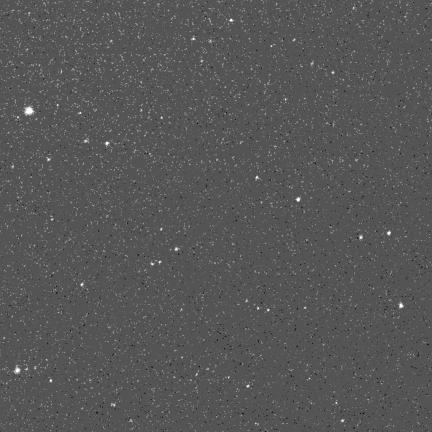blob: (25, 107, 34, 115), (14, 366, 21, 375), (175, 247, 180, 252), (387, 231, 392, 236), (399, 302, 403, 308), (359, 235, 363, 240), (255, 176, 259, 180), (151, 262, 155, 266), (247, 385, 251, 389), (296, 198, 300, 202), (332, 71, 335, 75), (106, 142, 109, 146), (293, 38, 296, 42), (50, 379, 53, 383), (230, 19, 233, 22), (81, 283, 83, 287)
